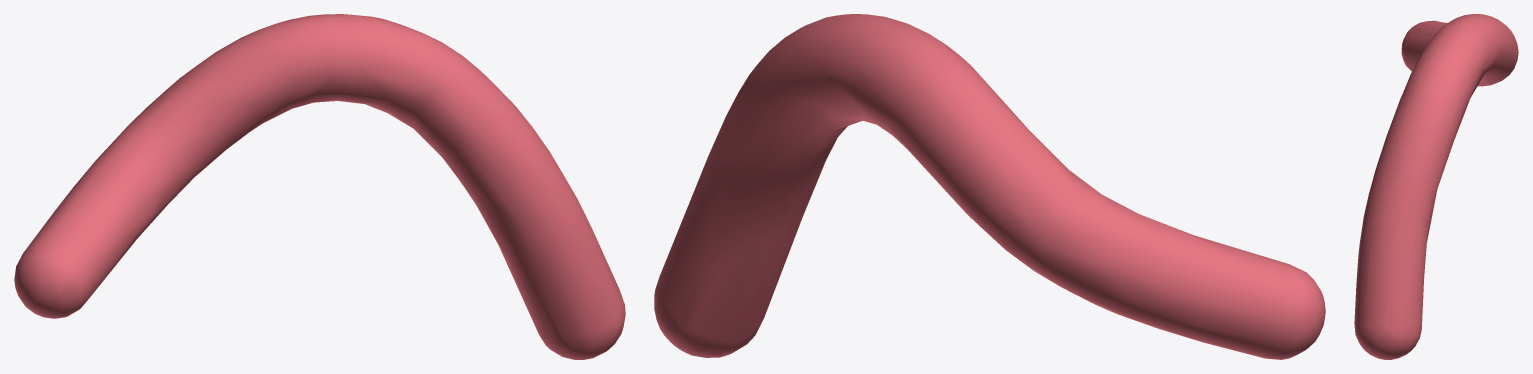
The model's file is fma82595_fj5006.glb.
3 renders of one model, left to right at view 1: azimuth 30°, elevation 25°; view 2: azimuth 150°, elevation 25°; view 3: azimuth 270°, elevation 25°, orthographic. The views are drawn at different scales.
Parts seen in each view (by area): view 1: FMA82595_FJ5006; view 2: FMA82595_FJ5006; view 3: FMA82595_FJ5006.
Boxes of the visible parts, bbox=[...] form: FMA82595_FJ5006: bbox=[14, 14, 625, 359]; FMA82595_FJ5006: bbox=[654, 14, 1325, 359]; FMA82595_FJ5006: bbox=[1354, 14, 1518, 359].
Size of the model in its own units: 0.055 by 0.0324 by 0.0187.
